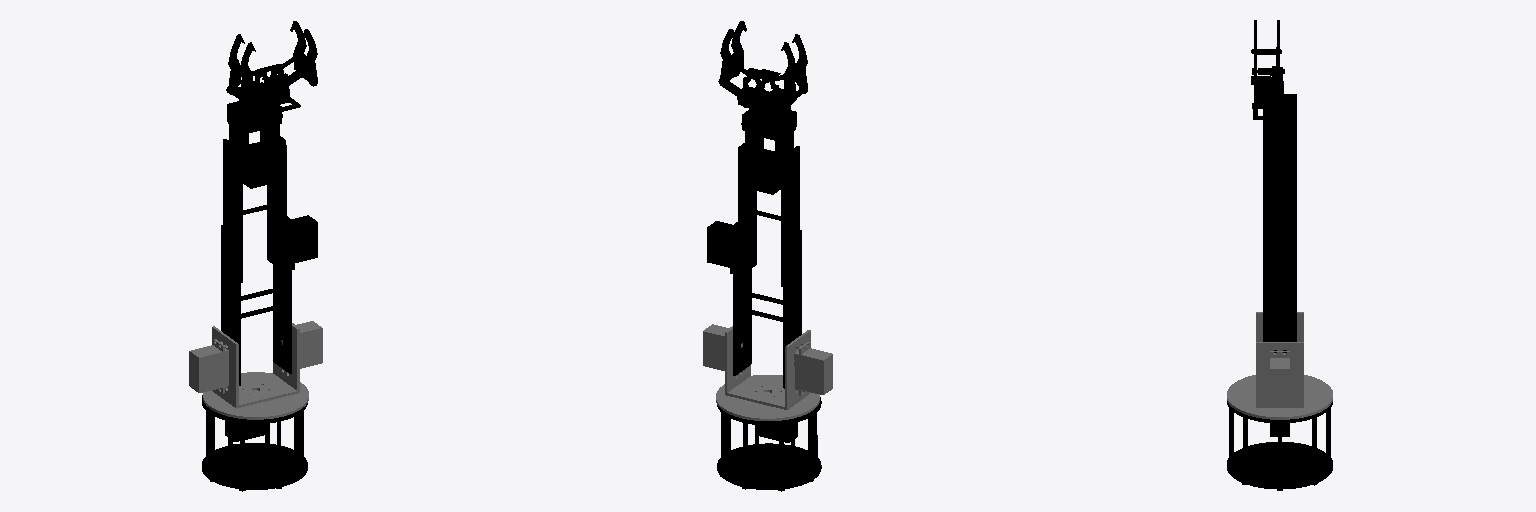
robot.urdf — Robot_Metalico:
<?xml version="1.0"?>
<robot name="Robot_Metalico">

    <material name="black">
        <color rgba="0 0 0 1"/>
    </material>

	<link name="world" />

        <link name="base_link">
        <visual>
            <origin xyz="0.0 0.0 0.0" rpy="1.57 0.0 0.0"/>
            <geometry>
                <mesh filename="package://lesson_urdf/meshes/visual/Pieza1.stl" scale="0.1 0.1 0.1"/>
            </geometry>
            <material name="black"/>
        </visual>
        </link>

        <joint name="Join" type="fixed">
            <parent link="world"/>
            <child link="base_link"/>
        </joint>

        <link name="link_1">
            <visual>
                <origin xyz="0.0 0.0 0.0" rpy="1.57 0.0 0.0"/>
                <geometry>
                    <mesh filename="package://lesson_urdf/meshes/visual/Pieza2.stl" scale="0.1 0.1 0.1"/>
                </geometry>
                <material name="black">
                    <color rgba="0.5 0.5 0.5 1.0"/>
                </material>
            </visual>
        </link>

        <joint name="joint_1" type="revolute">
            <origin xyz="0.0 0.0 0.75" rpy="0.0 0.0 0.0"/>
            <parent link="base_link"/>
            <child link="link_1"/>
            <axis xyz="0.0 0.0 1.0"/>
            <limit lower="-1.57" upper="1.57" effort="5.0" velocity="5.0"/>
        </joint>

        <link name="link_2">
            <visual>
                <origin xyz="0.0 0.0 0.0" rpy="1.57 0.0 0.0"/>
                <geometry>
                    <mesh filename="package://lesson_urdf/meshes/visual/Pieza3.stl" scale="0.1 0.1 0.1"/>
                </geometry>
                <material name="black"/>
            </visual>
        </link>

        <joint name="joint_2" type="revolute">
            <origin xyz="0.0 0.0 0.55" rpy="0.0 0.0 1.57"/>
            <parent link="link_1"/>
            <child link="link_2"/>
            <axis xyz="0.0 1.0 0.0"/>
            <limit lower="-1.57" upper="1.57" effort="5.0" velocity="5.0"/>
        </joint>

        <link name="link_3">
            <visual>
                <origin xyz="0.0 0.0 0.0" rpy="1.57 0.0 0.0"/>
                <geometry>
                    <mesh filename="package://lesson_urdf/meshes/visual/Pieza4.stl" scale="0.1 0.1 0.1"/>
                </geometry>
                <material name="black"/>
            </visual>
        </link>

        <joint name="joint_3" type="revolute">
            <origin xyz="0.0 0.0 1.2" rpy="0.0 0.0 0.0"/>
            <parent link="link_2"/>
            <child link="link_3"/>
            <axis xyz="0.0 1.0 0.0"/>
            <limit lower="-1.57" upper="1.57" effort="5.0" velocity="5.0"/>
        </joint>

        <link name="link_4">
            <visual>
                <origin xyz="0.0 0.0 0.0" rpy="1.57 0.0 0.0"/>
                <geometry>
                    <mesh filename="package://lesson_urdf/meshes/visual/Pieza5.stl" scale="0.1 0.1 0.1"/>
                </geometry>
                <material name="black"/>
            </visual>
        </link>

        <joint name="joint_4" type="revolute">
            <origin xyz="0.0 0.0 1.0" rpy="0.0 0.0 0.0"/>
            <parent link="link_3"/>
            <child link="link_4"/>
            <axis xyz="0.0 1.0 0.0"/>
            <limit lower="-1.57" upper="1.57" effort="5.0" velocity="5.0"/>
        </joint>

        <link name="Gripper">
            <visual>
                <origin xyz="0.0 0.0 0.0" rpy="1.57 0.0 0.0"/>
                <geometry>
                    <mesh filename="package://lesson_urdf/meshes/visual/Garra.stl" scale="0.1 0.1 0.1"/>
                </geometry>
                <material name="black"/>
            </visual>
        </link>

        <joint name="joint_Gripper" type="revolute">
            <origin xyz="0.0 0.0 0.7" rpy="0.0 0.0 1.57"/>
            <parent link="link_4"/>
            <child link="Gripper"/>
            <axis xyz="0.0 0.0 1.0"/>
            <limit lower="-1.57" upper="1.57" effort="5.0" velocity="5.0"/>
        </joint>
    
</robot>

--- Render facts (derived) ---
Views: 3 orthographic renders of the robot side by side, from view 1: azimuth 30°, elevation 25°; view 2: azimuth 150°, elevation 25°; view 3: azimuth 270°, elevation 25°.
Robot: Robot_Metalico — 7 links, 6 joints (5 revolute, 1 fixed); root link world; default pose: every joint at zero.
Visible links, largest first — view 1: link_1, base_link, link_2, link_3, Gripper, link_4; view 2: link_1, base_link, link_2, link_3, Gripper, link_4; view 3: link_1, base_link, link_2, link_3, Gripper, link_4.
Boxes of the visible links, x1=… form: link_1: x1=189, y1=321, x2=322, y2=419; base_link: x1=202, y1=395, x2=307, y2=491; link_2: x1=221, y1=215, x2=317, y2=385; link_3: x1=223, y1=136, x2=286, y2=282; Gripper: x1=226, y1=21, x2=317, y2=115; link_4: x1=227, y1=101, x2=282, y2=175; link_1: x1=703, y1=324, x2=832, y2=420; base_link: x1=717, y1=397, x2=821, y2=491; link_2: x1=707, y1=221, x2=801, y2=388; link_3: x1=737, y1=143, x2=799, y2=286; Gripper: x1=718, y1=21, x2=807, y2=114; link_4: x1=741, y1=109, x2=796, y2=181; link_1: x1=1227, y1=312, x2=1332, y2=419; base_link: x1=1227, y1=401, x2=1332, y2=490; link_2: x1=1263, y1=237, x2=1296, y2=352; link_3: x1=1263, y1=148, x2=1296, y2=243; Gripper: x1=1251, y1=20, x2=1290, y2=119; link_4: x1=1263, y1=94, x2=1296, y2=147.
Size in the robot's own frame: 1.47 by 1.1 by 5.02 metres.
6 mesh visuals loaded from 6 distinct referenced files (6 binary STL).